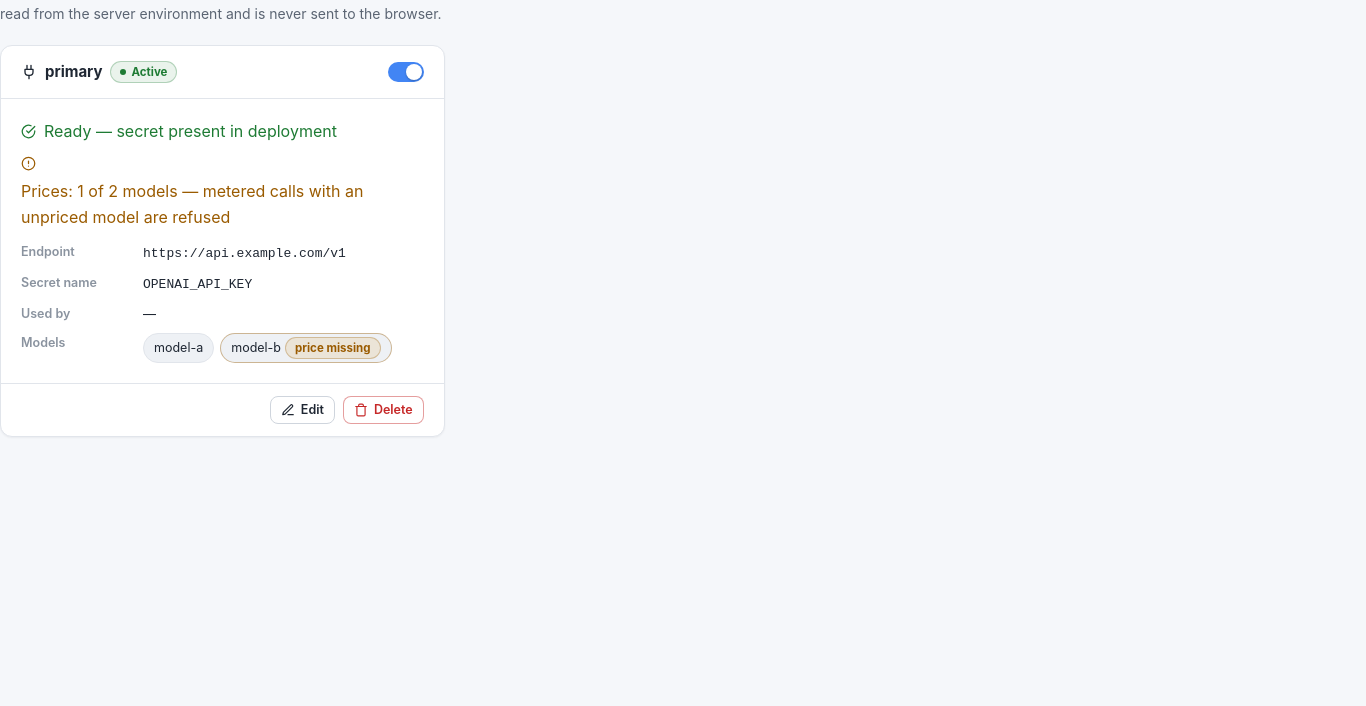
Test case: a half-filled price row is rejected before any request
The width and height of the screenshot is (1366, 706).
Expected: the text "primary" is shown, [45, 62, 102, 81]
Click the button "Edit" at (302, 410), box [270, 396, 335, 424]
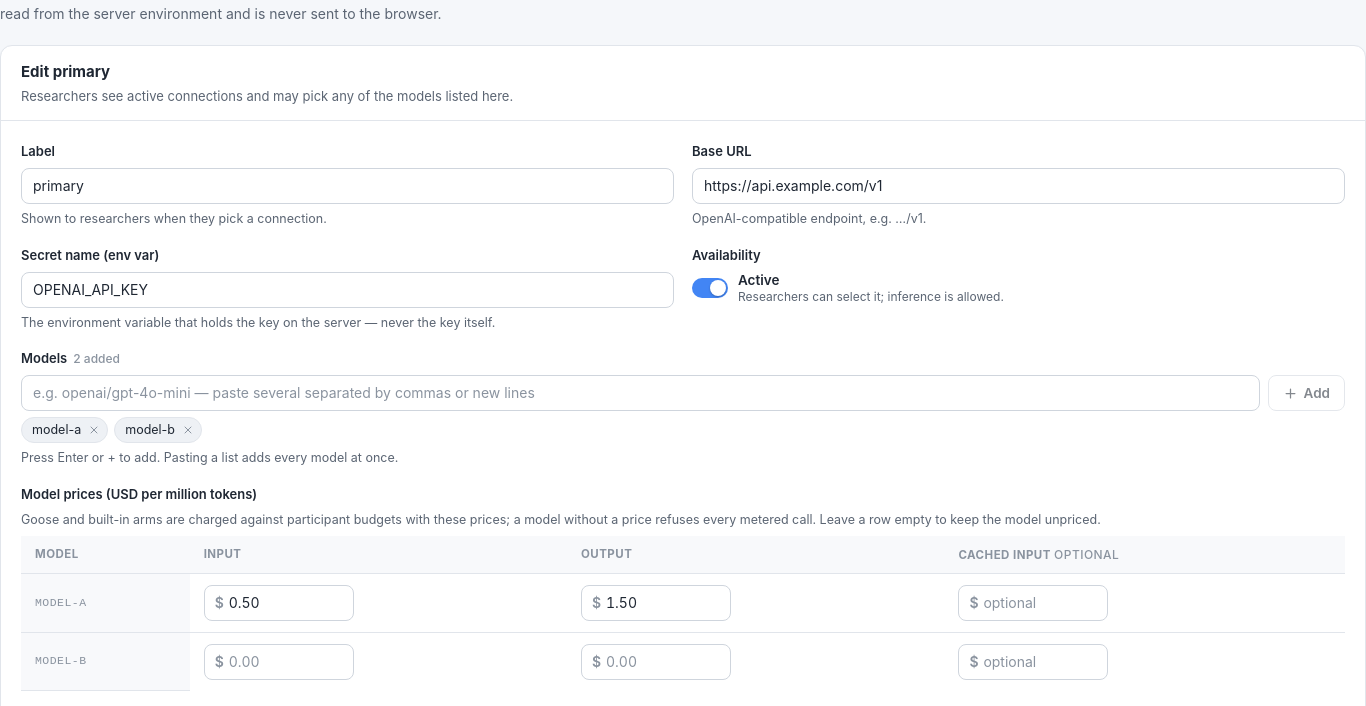
Type "2" into the field named "model-b input price" at (279, 662), box [204, 644, 354, 680]
(page scrolled)
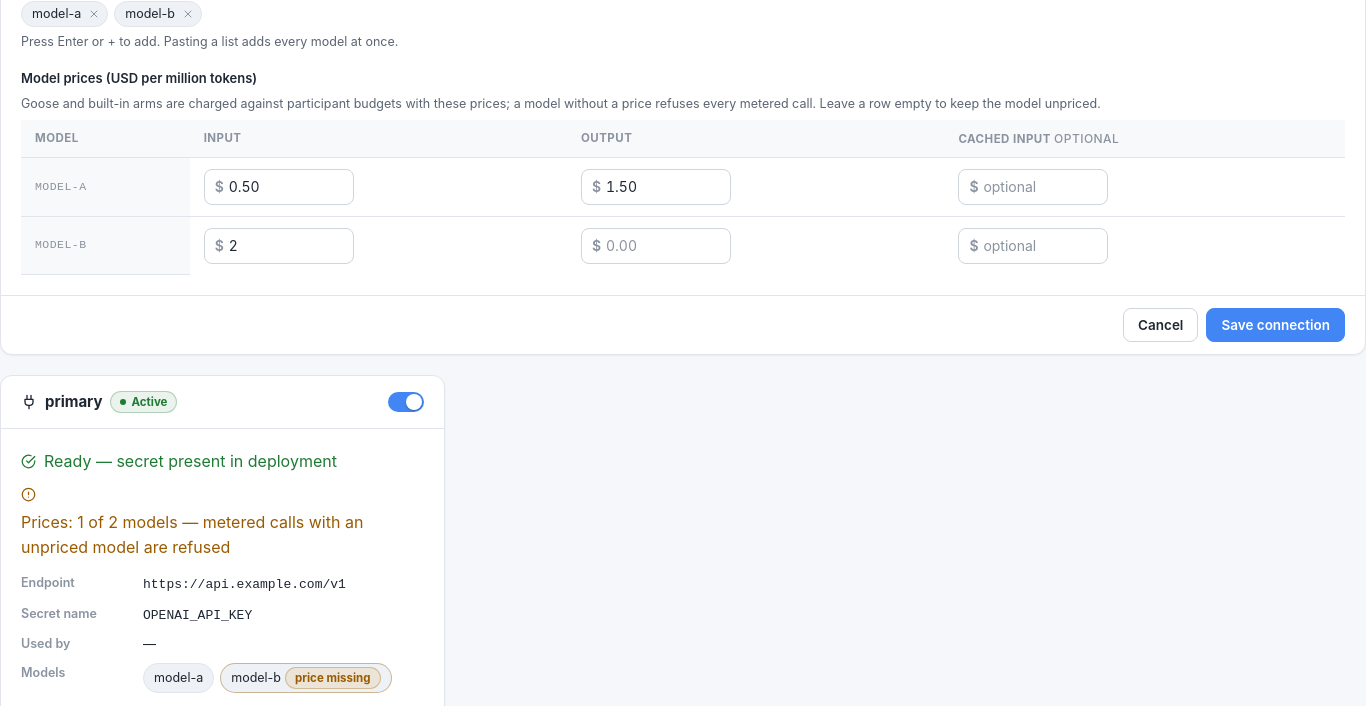
Click the button "Save connection" at (1276, 325), box [1206, 308, 1345, 342]
(page scrolled)
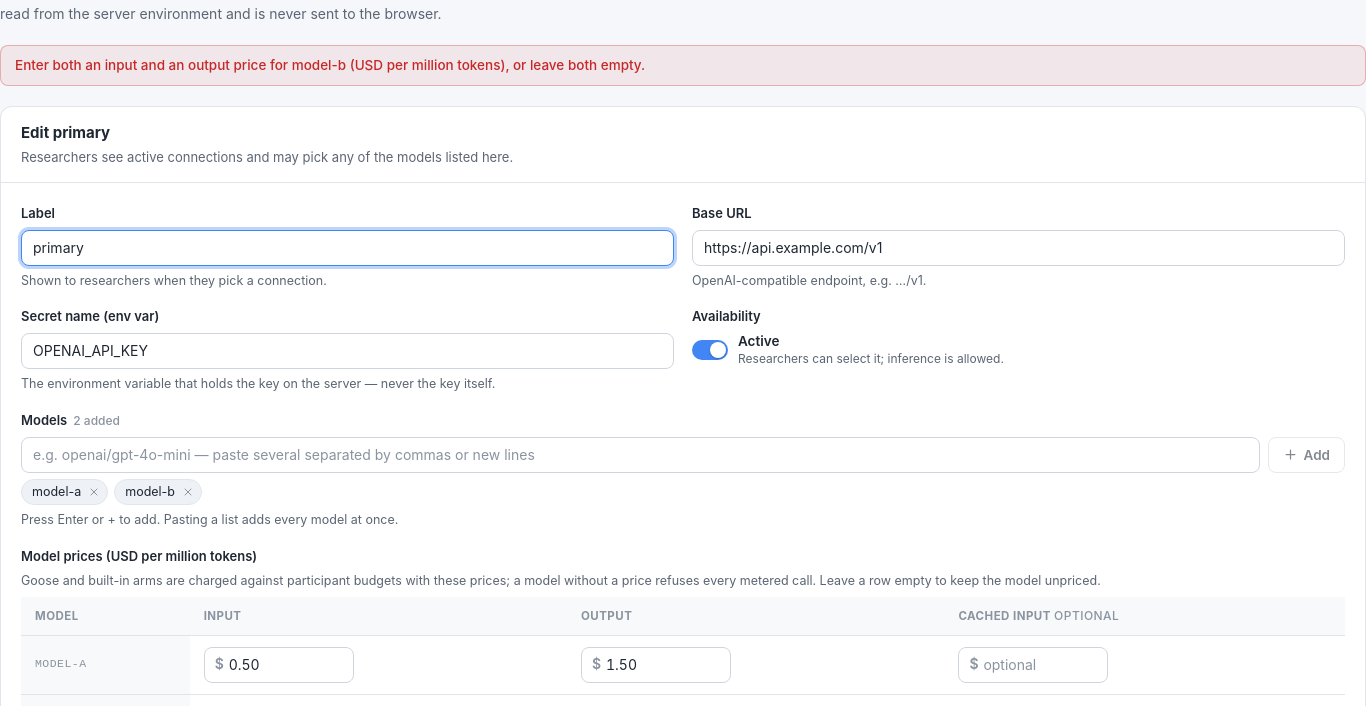
Expected: the message shows "both an input and an output price for model-b", [15, 57, 645, 73]
